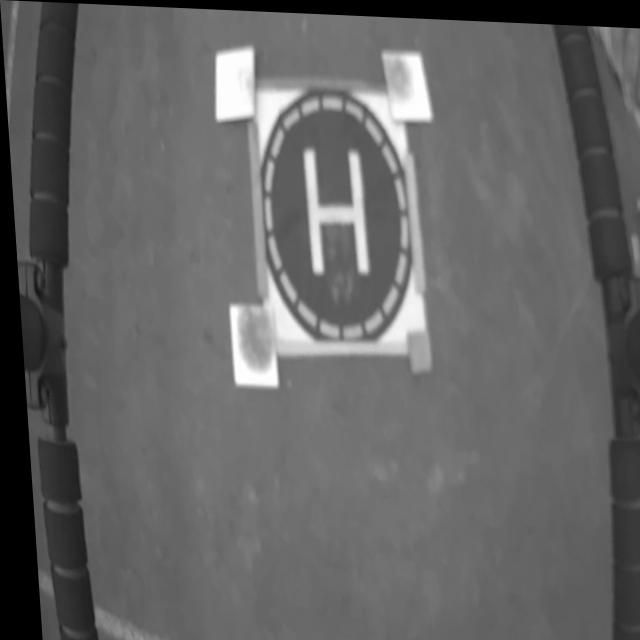Helipad: (301, 145, 366, 272)
